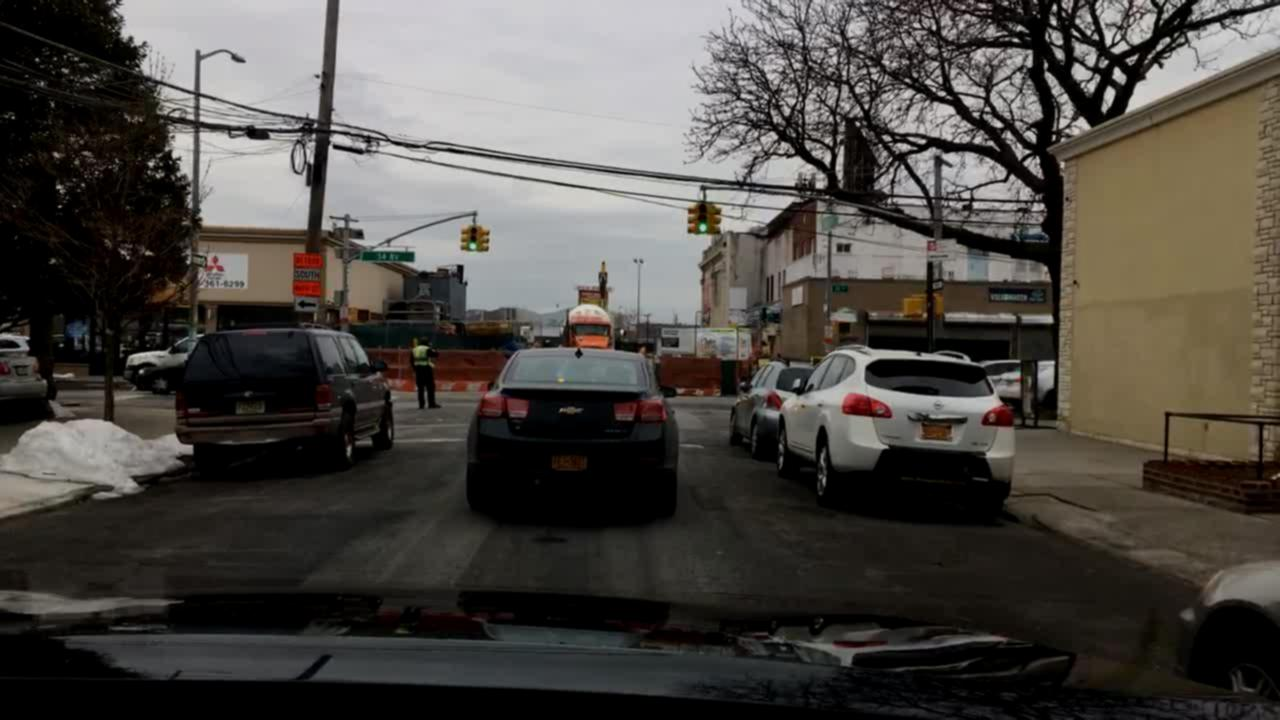Nissan: (929, 397, 952, 415)
chevrolet: (552, 397, 592, 422)
